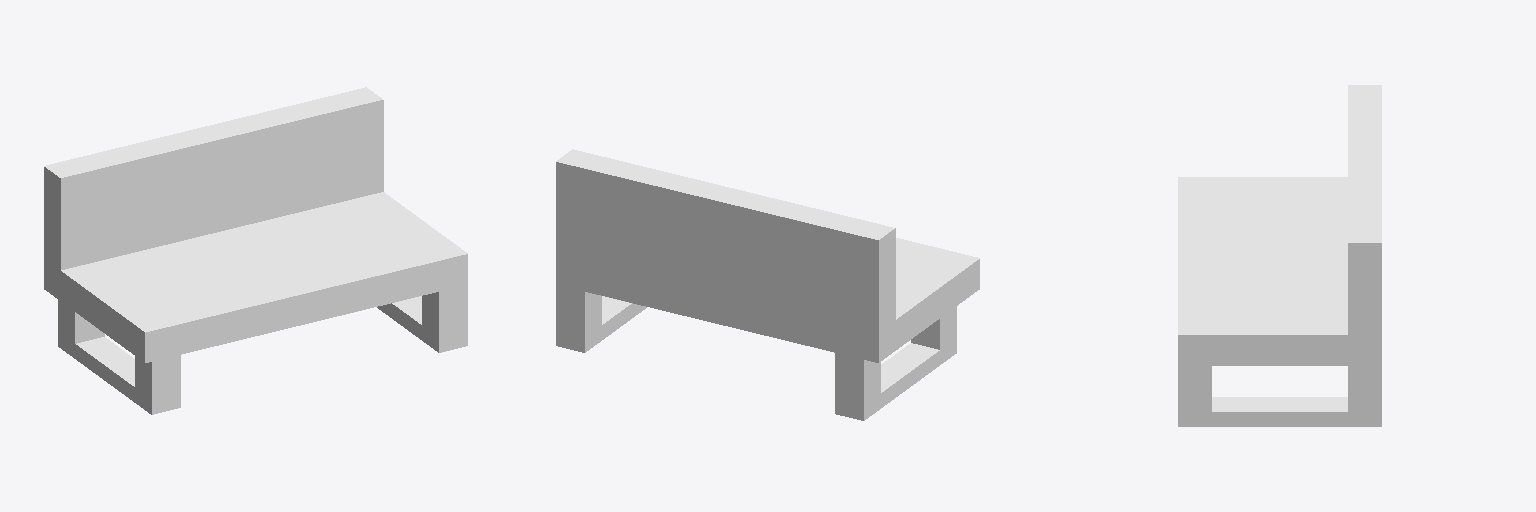
The model's file is Bench1.obj.
The picture shows the model from 3 angles: view 1: azimuth 30°, elevation 25°; view 2: azimuth 150°, elevation 25°; view 3: azimuth 270°, elevation 25°; orthographic projection.
Parts seen in each view (by area): view 1: object 1; view 2: object 1; view 3: object 1.
Part boxes in pixels (x1,y1,x2,y2): object 1: (44,87,467,414); object 1: (556,149,979,420); object 1: (1178,85,1381,426).
Size of the model in its own units: 2.2 by 1.2 by 1.2.